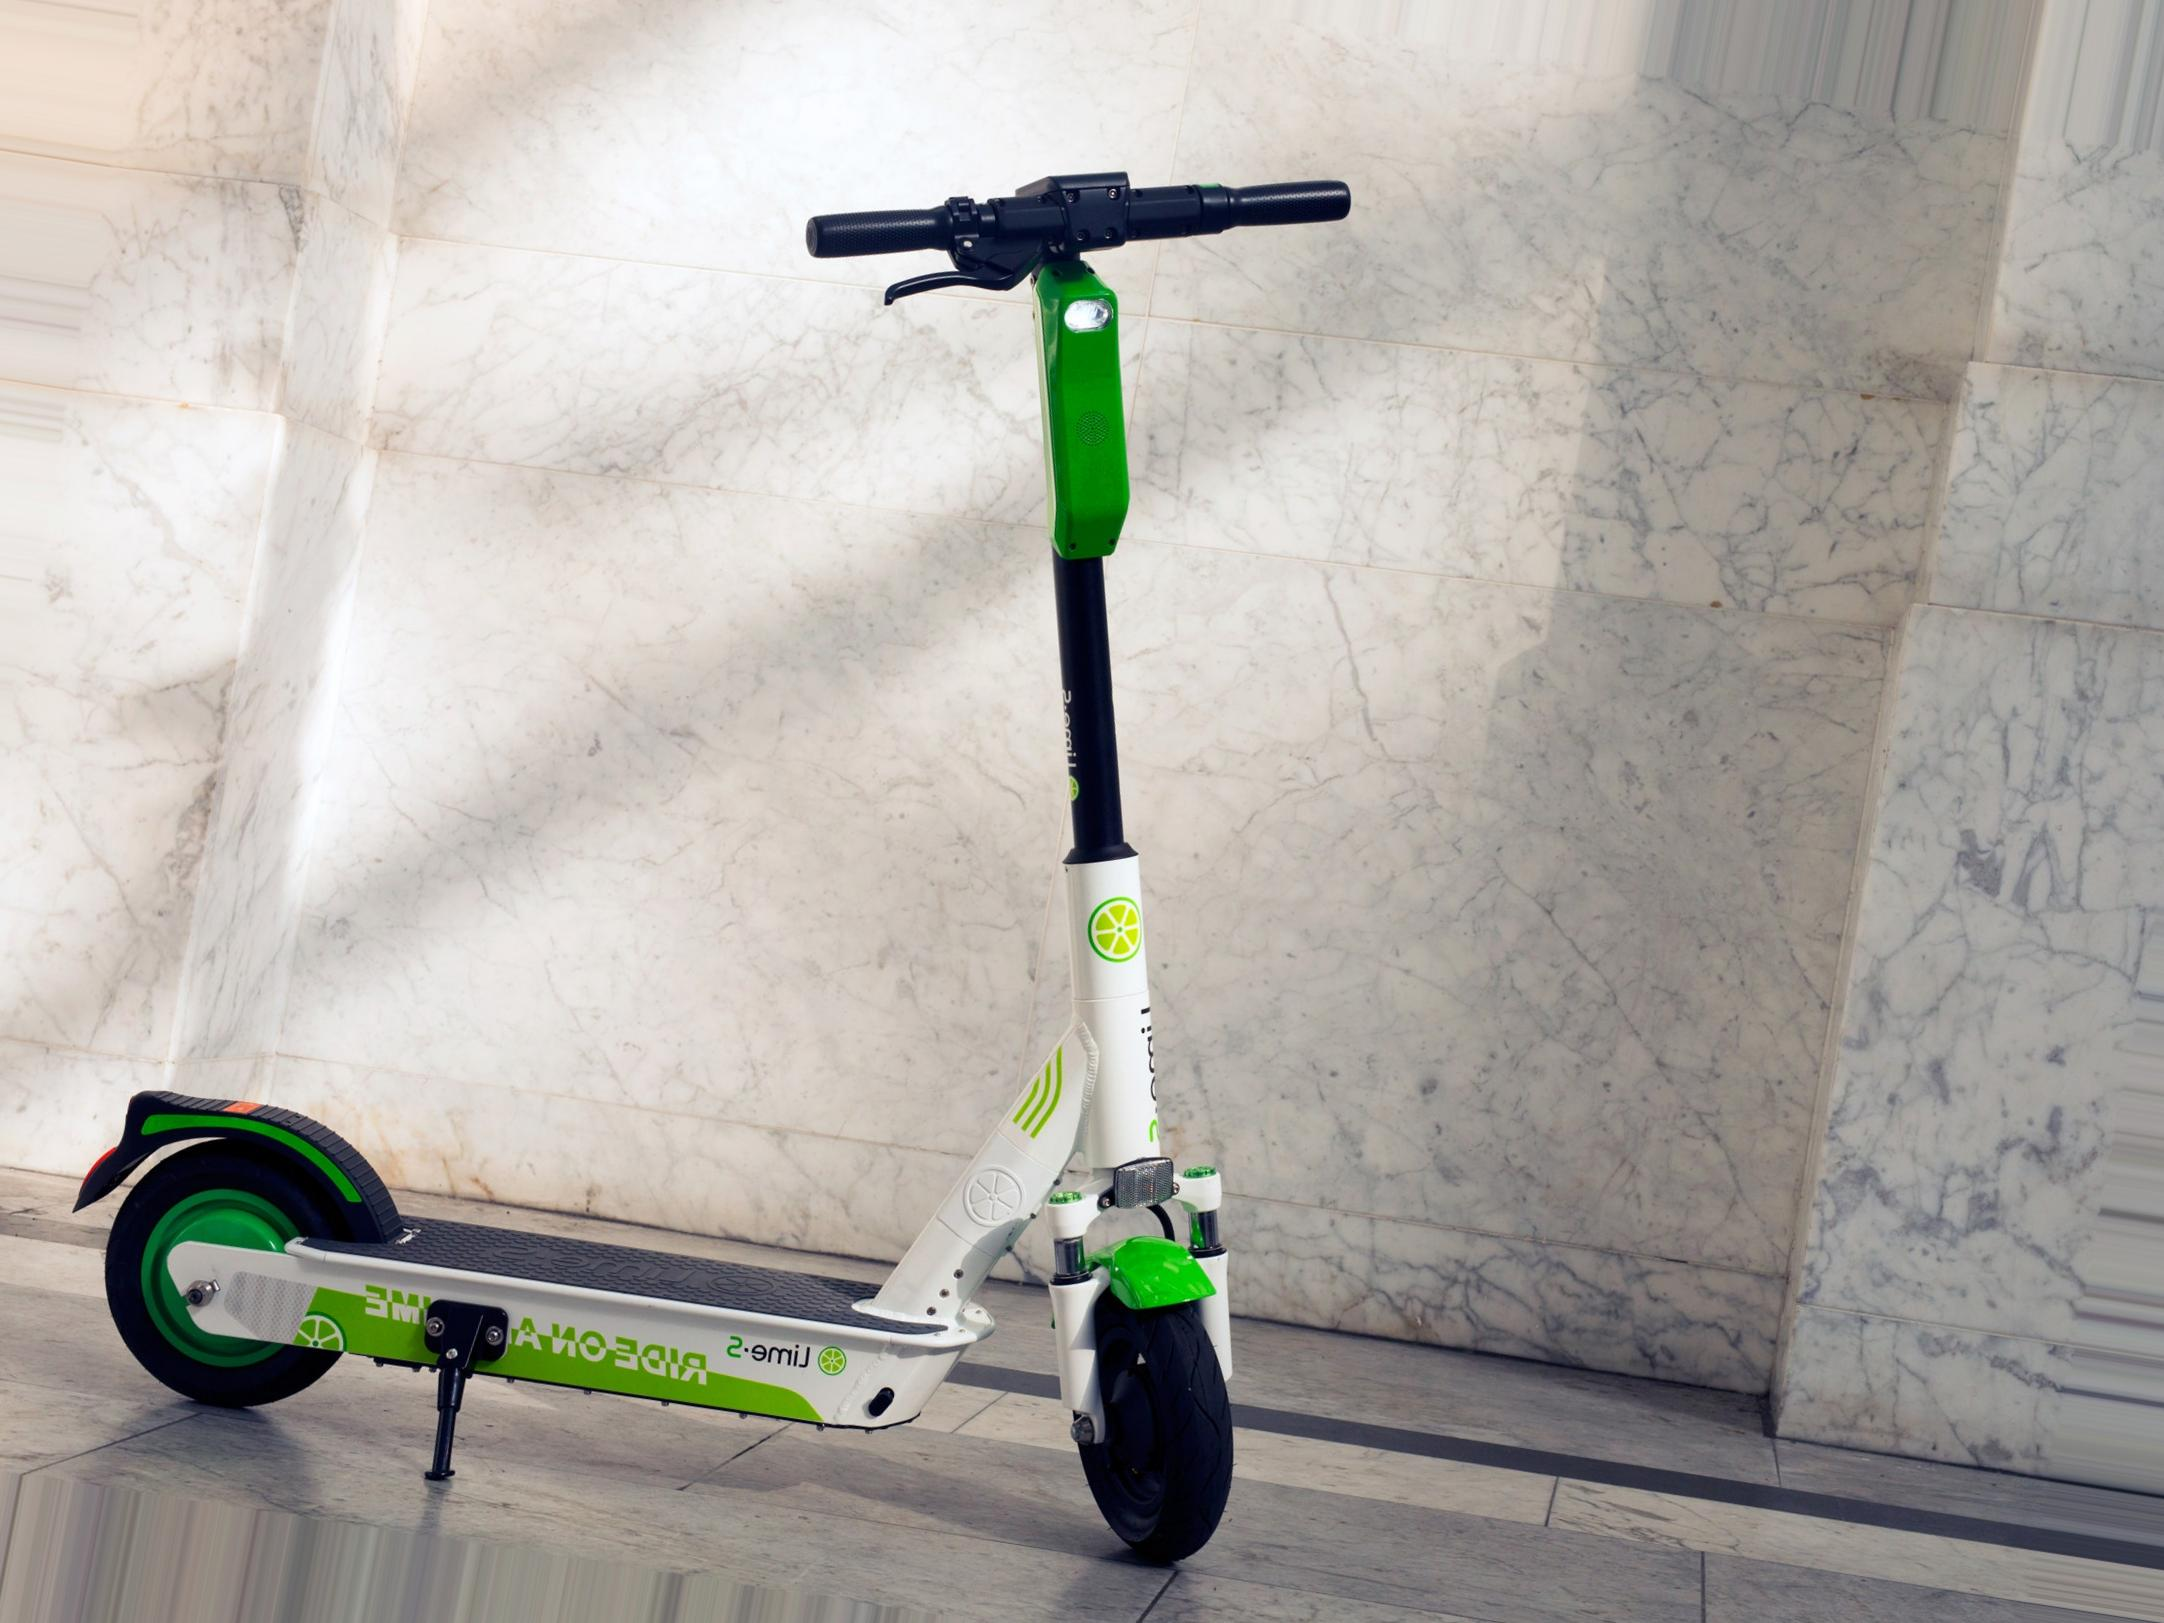scooter: (72, 164, 1350, 1567)
